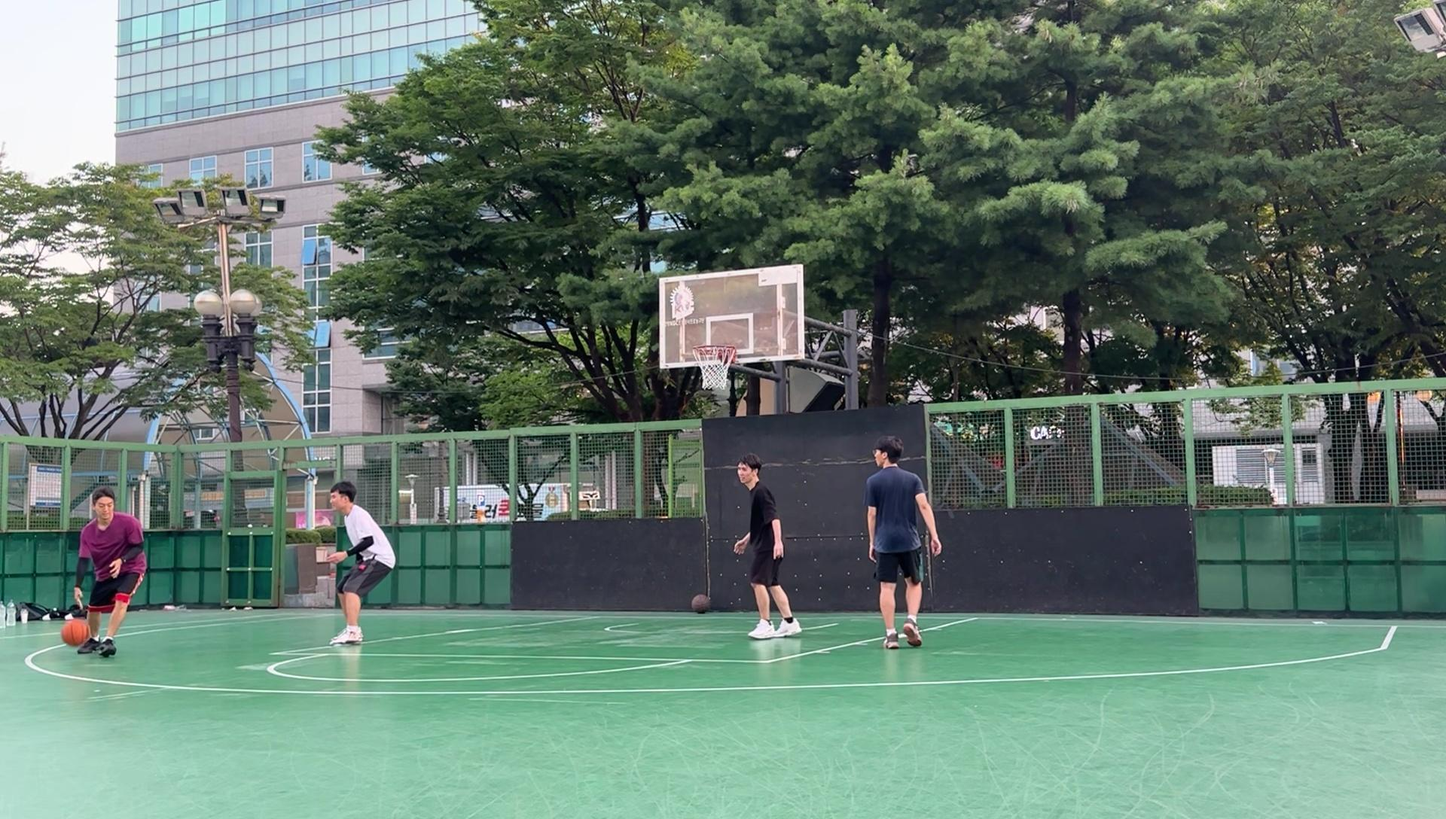ball: (60, 617, 92, 649), (690, 593, 711, 615)
human: (863, 434, 942, 652), (60, 485, 148, 660), (732, 450, 804, 643), (325, 480, 396, 647)
rim: (692, 344, 737, 392)
